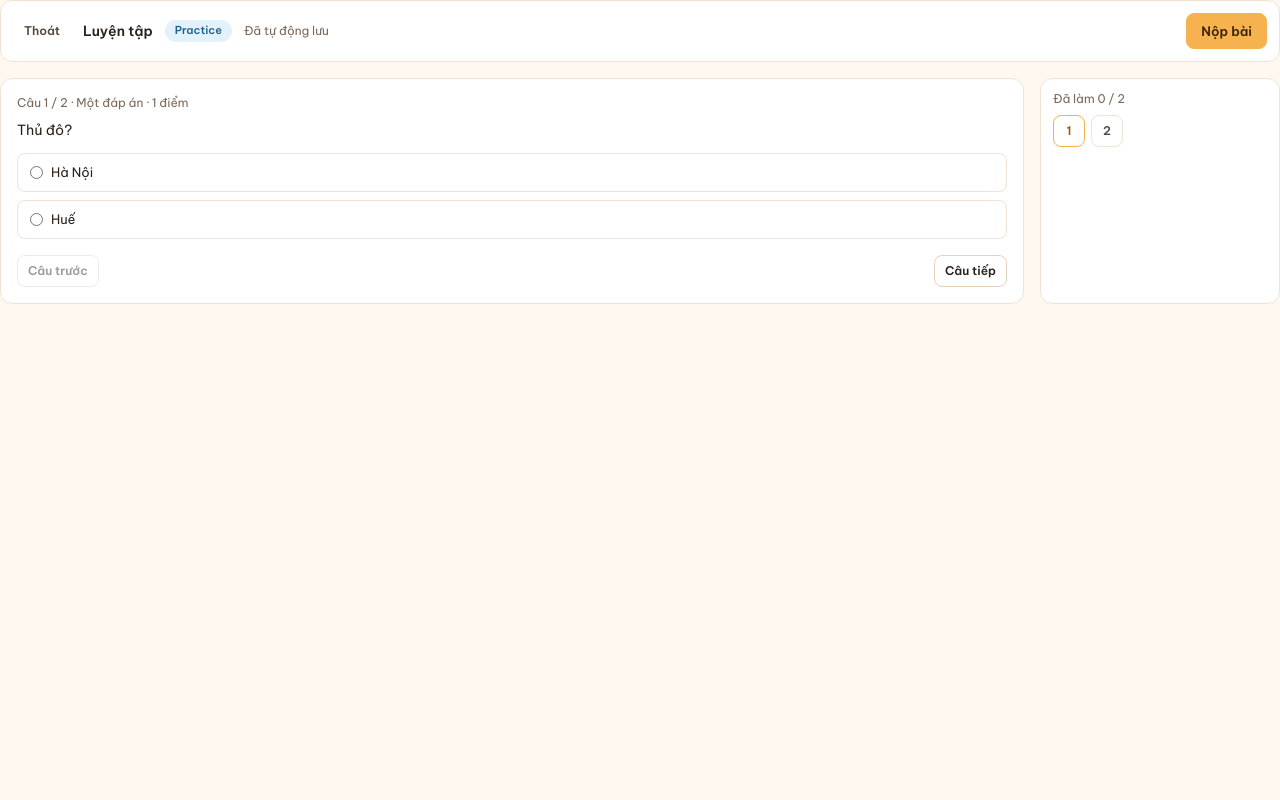
QuizTakingPage (UC 51) › không lưu được câu trả lời thì không nộp tay
The image size is (1280, 800).
Step 1. Click the radio button with test id "quiz-taking-option-1" → (36, 173), box x1=30 y1=166 x2=43 y2=179
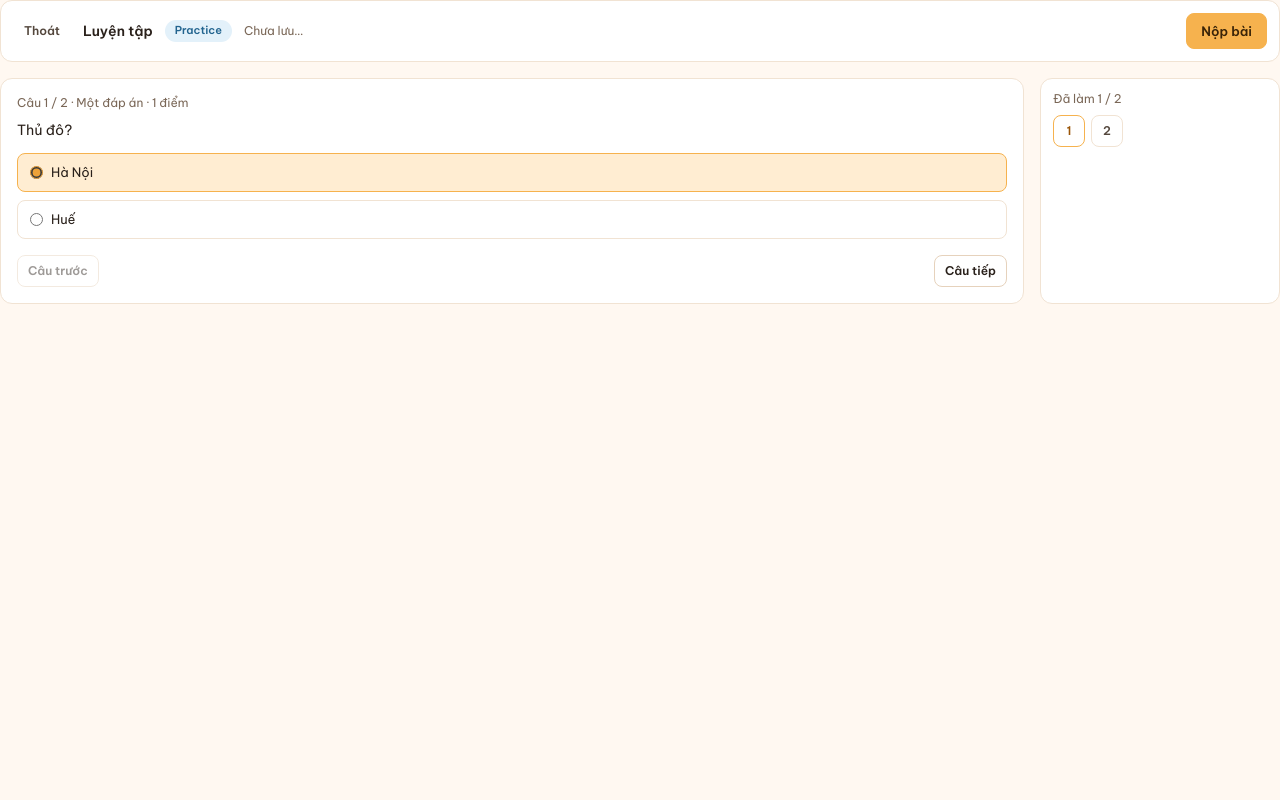
Step 2. Click the button with test id "quiz-taking-submit" → (1227, 31), box x1=1186 y1=13 x2=1267 y2=49
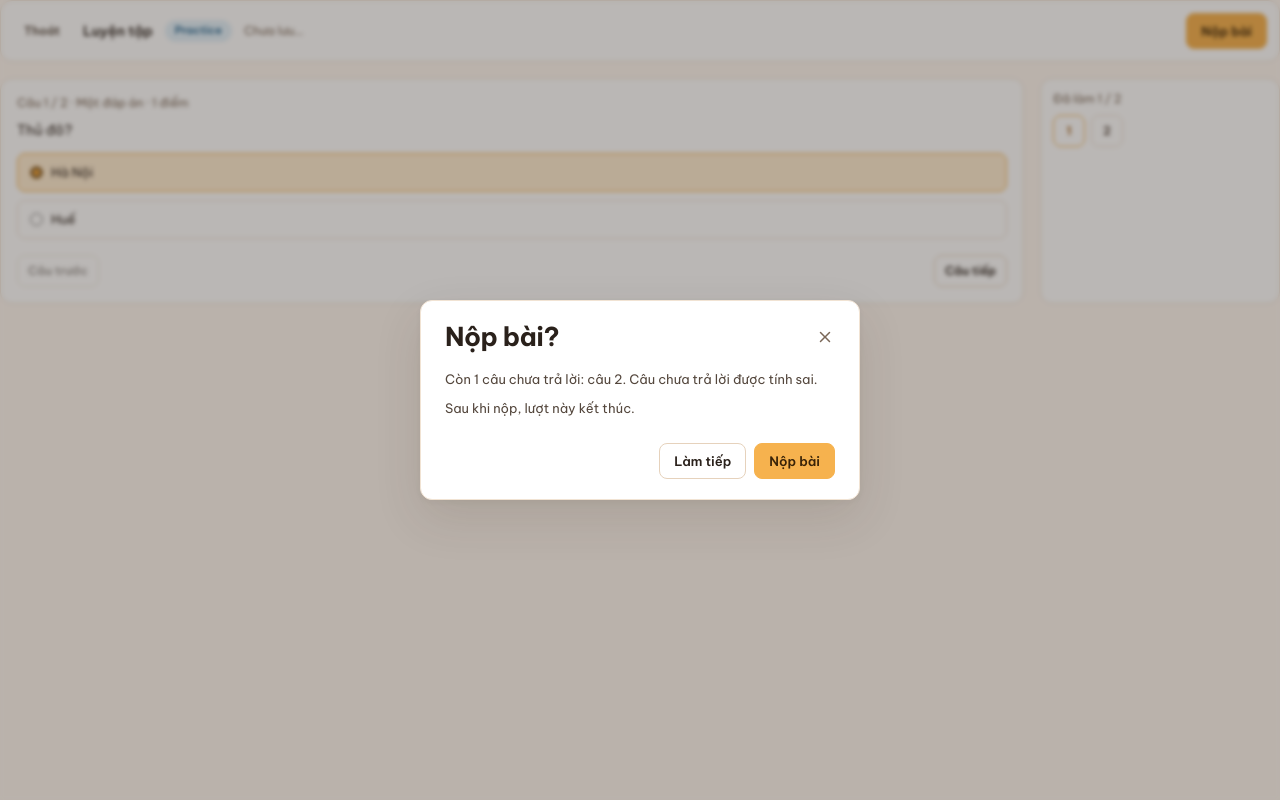
Step 3. Click the button with test id "quiz-taking-confirm-submit" → (795, 461), box x1=754 y1=443 x2=835 y2=479
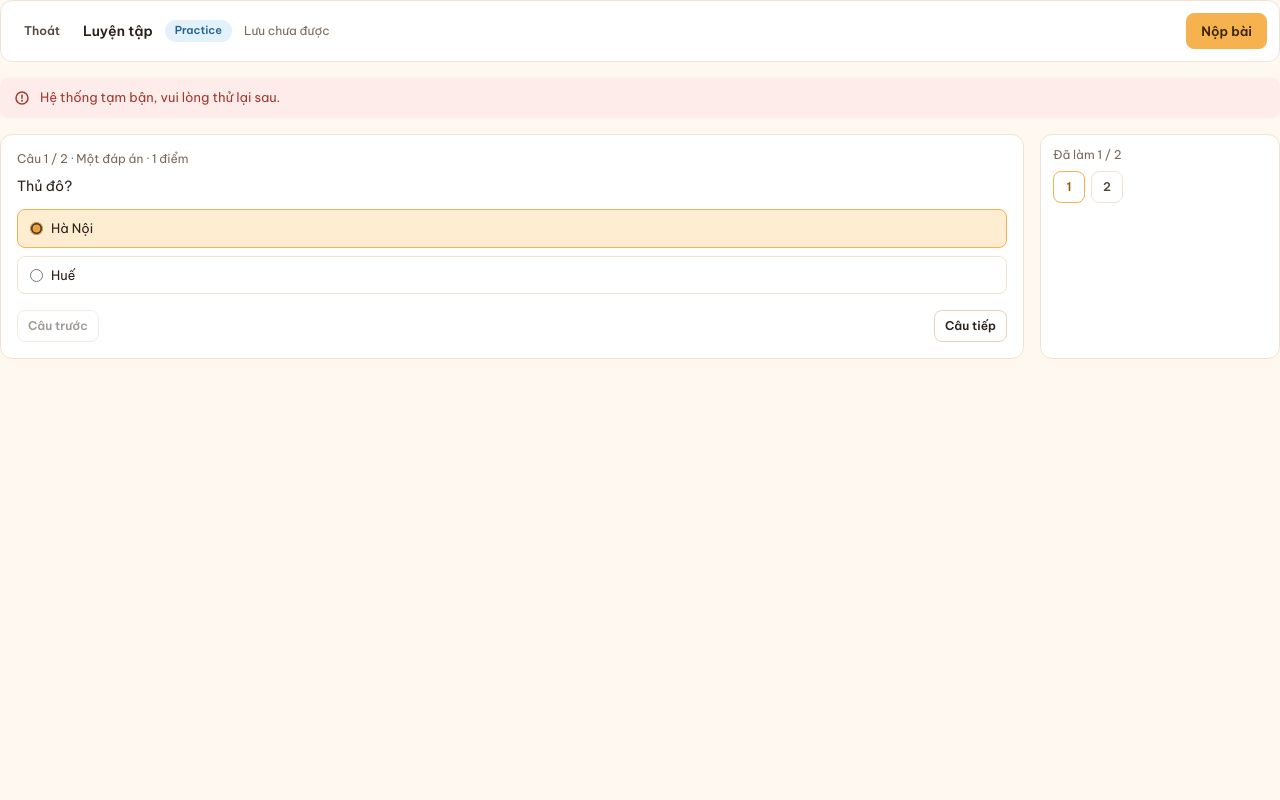
Result: the message with test id "quiz-taking-save-state" reads "Lưu chưa được" at x1=244 y1=23 x2=330 y2=38
